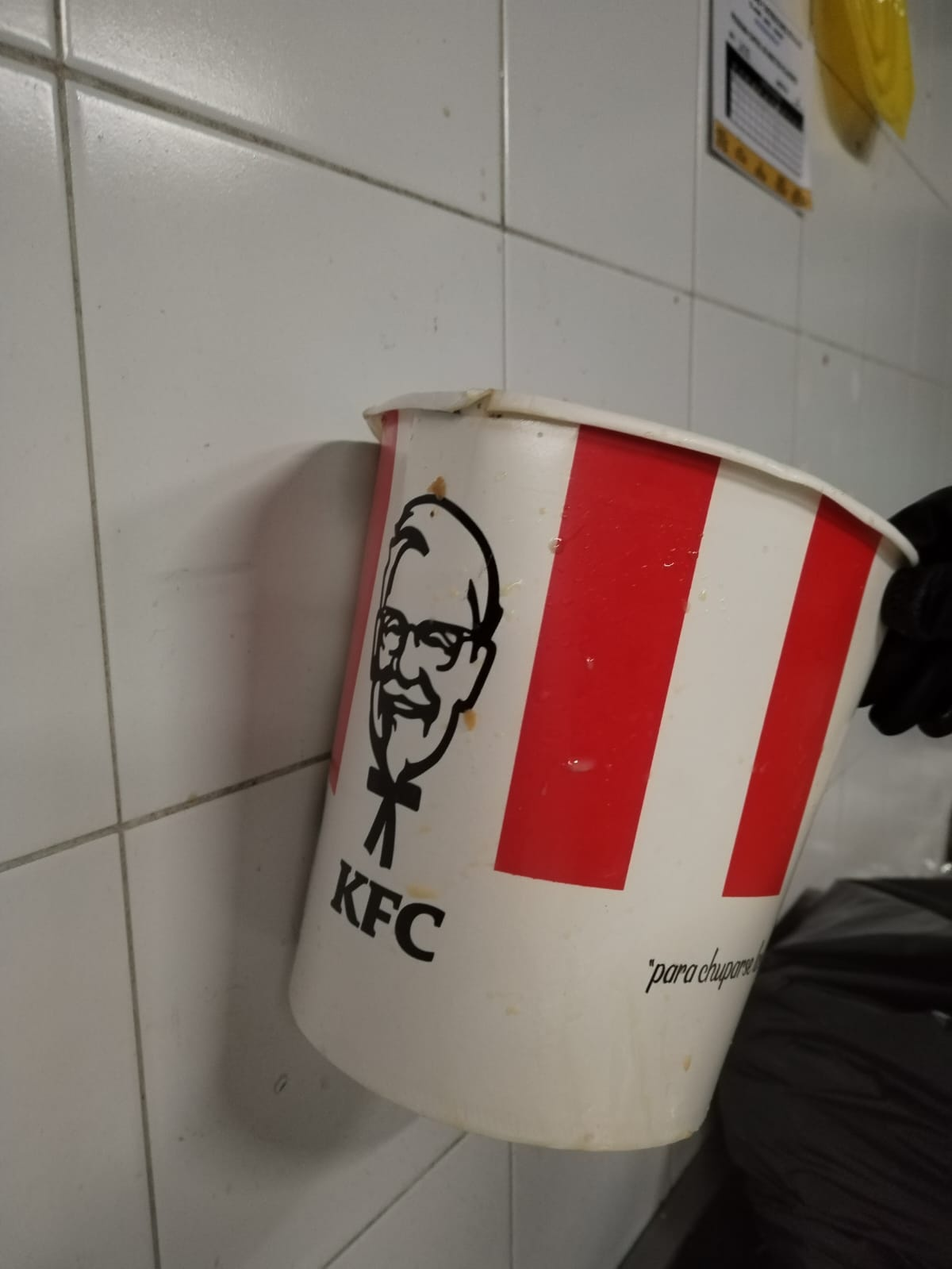Carton: (288, 391, 918, 1149)
